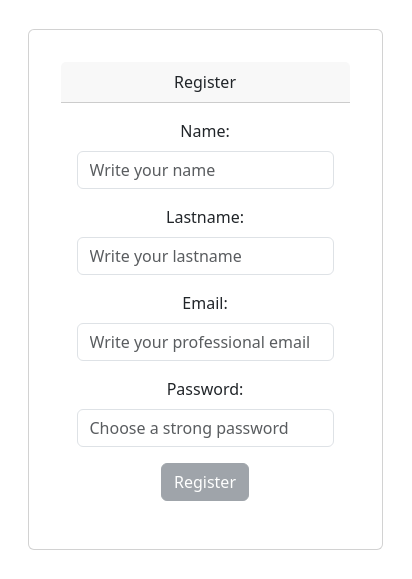
Test case: Register Page › Error Messages › Email input errors if it is not validated such as:uekineraydin@gmail.
Type "uekineraydin@gmail." into the field with test id "email-input".
click(206, 342); type("uekineraydin@gmail.")  # box [77,323,334,361]
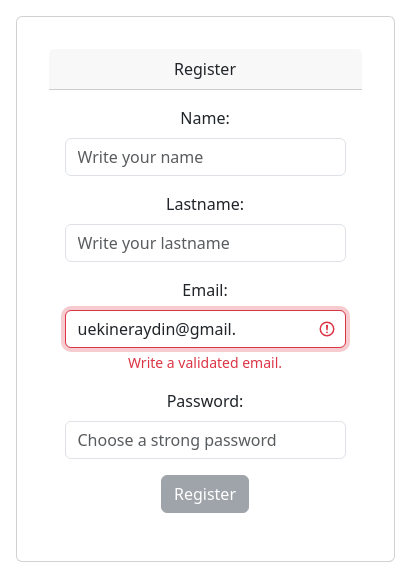
Now the text "Write a validated email." is shown, box [128,353,282,372]
